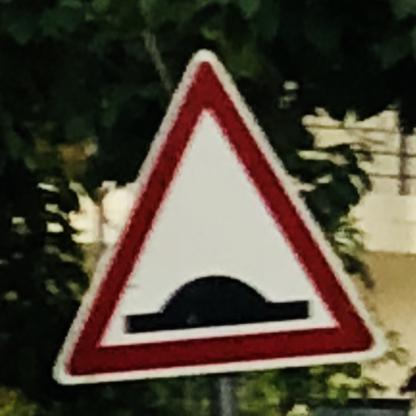Speed Breaker Ahead: (50, 49, 388, 386)
